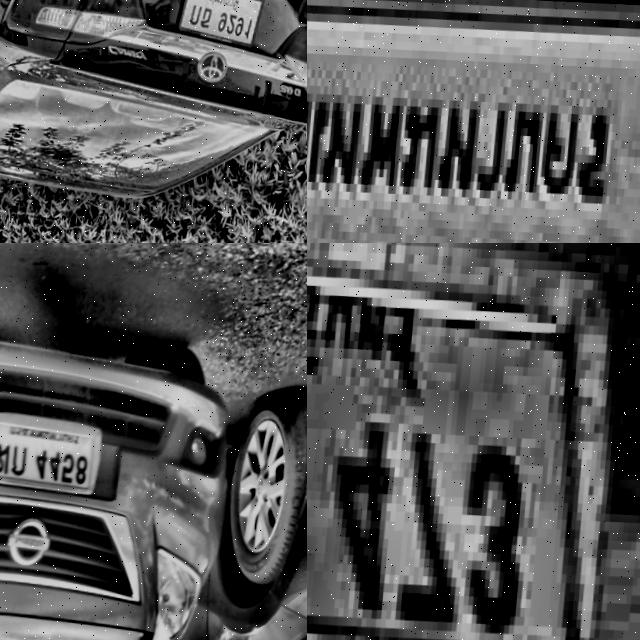license-plate: (307, 243, 640, 640), (307, 0, 640, 243), (0, 405, 104, 498), (173, 0, 266, 53)
